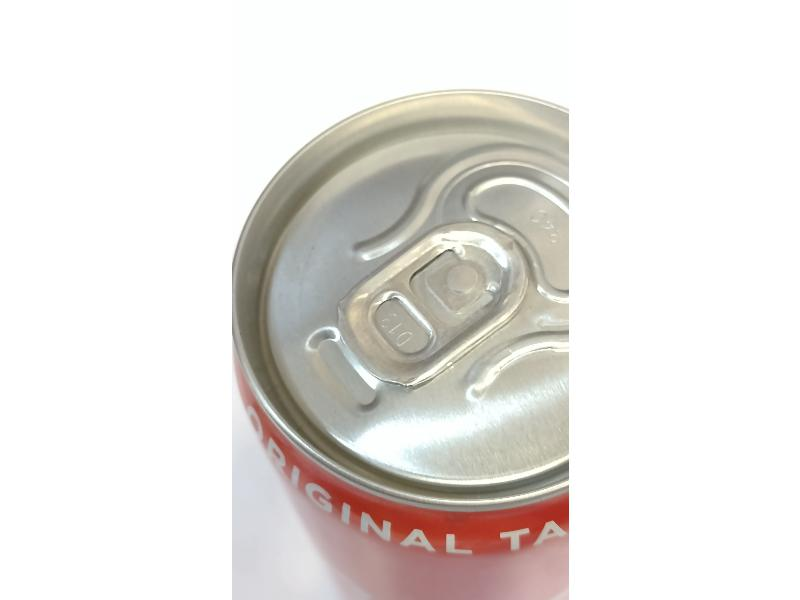can: (225, 74, 568, 592)
